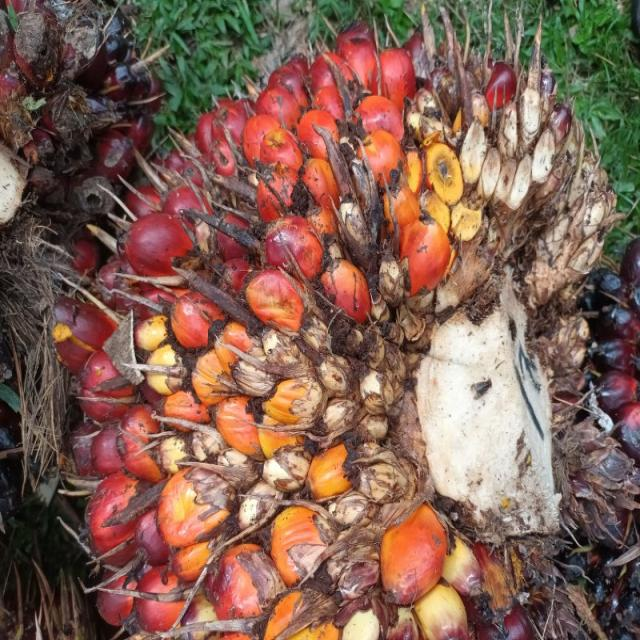fraksi 3: (61, 0, 588, 597)
